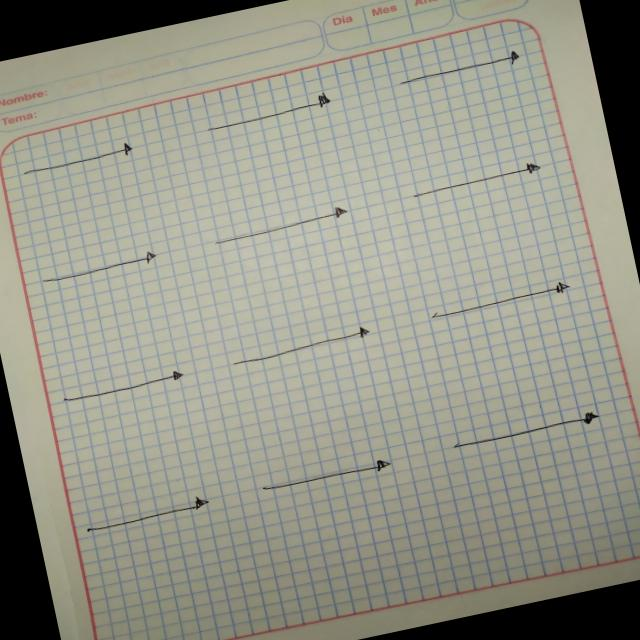arrow_line_right: (198, 194, 382, 258), (436, 400, 610, 462), (412, 271, 588, 332), (186, 82, 347, 142), (224, 318, 390, 374), (252, 446, 406, 506), (392, 152, 556, 208), (78, 489, 230, 545), (49, 362, 192, 416), (11, 132, 144, 186), (390, 44, 530, 95), (33, 240, 164, 292)
